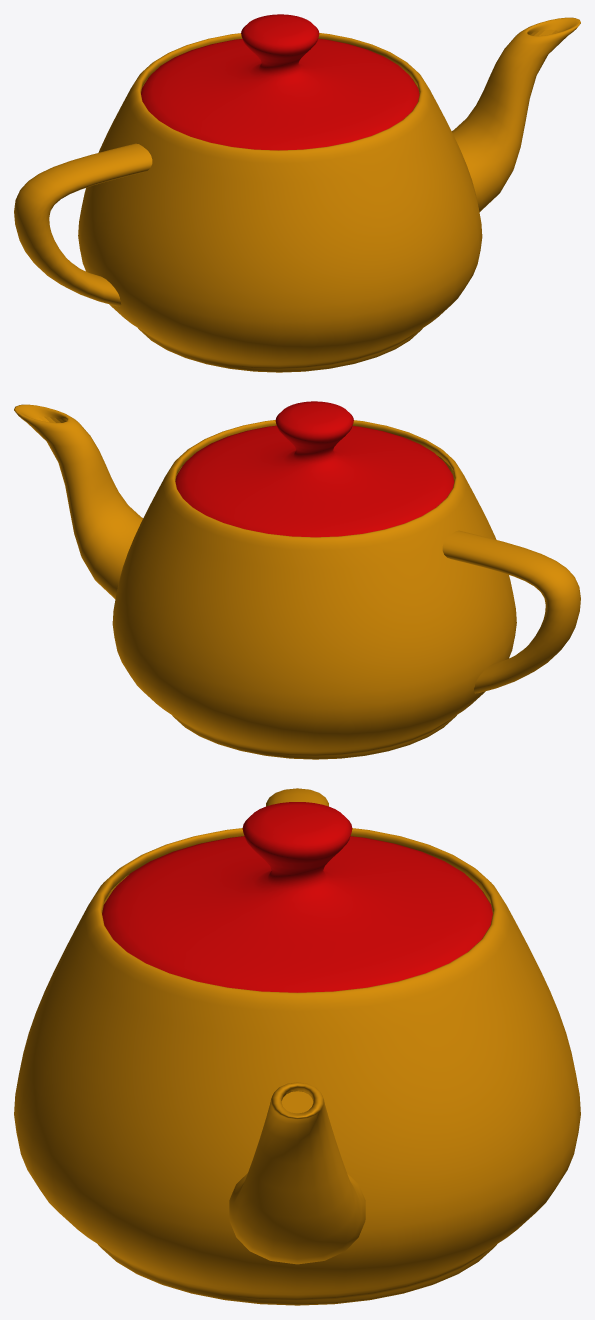
File: calibracion.glb
3 renders of one model, top to bottom at view 1: azimuth 30°, elevation 25°; view 2: azimuth 150°, elevation 25°; view 3: azimuth 270°, elevation 25°, orthographic. The views are drawn at different scales.
Parts seen in each view (by area): view 1: Teapot001; view 2: Teapot001; view 3: Teapot001.
Boxes of the visible parts, x1,y1,x2,y2 form: Teapot001: (14, 14, 580, 372); Teapot001: (14, 401, 580, 759); Teapot001: (14, 788, 580, 1305).
Bounding box in the file's own units: 1.63 × 0.8163 × 1.02.
